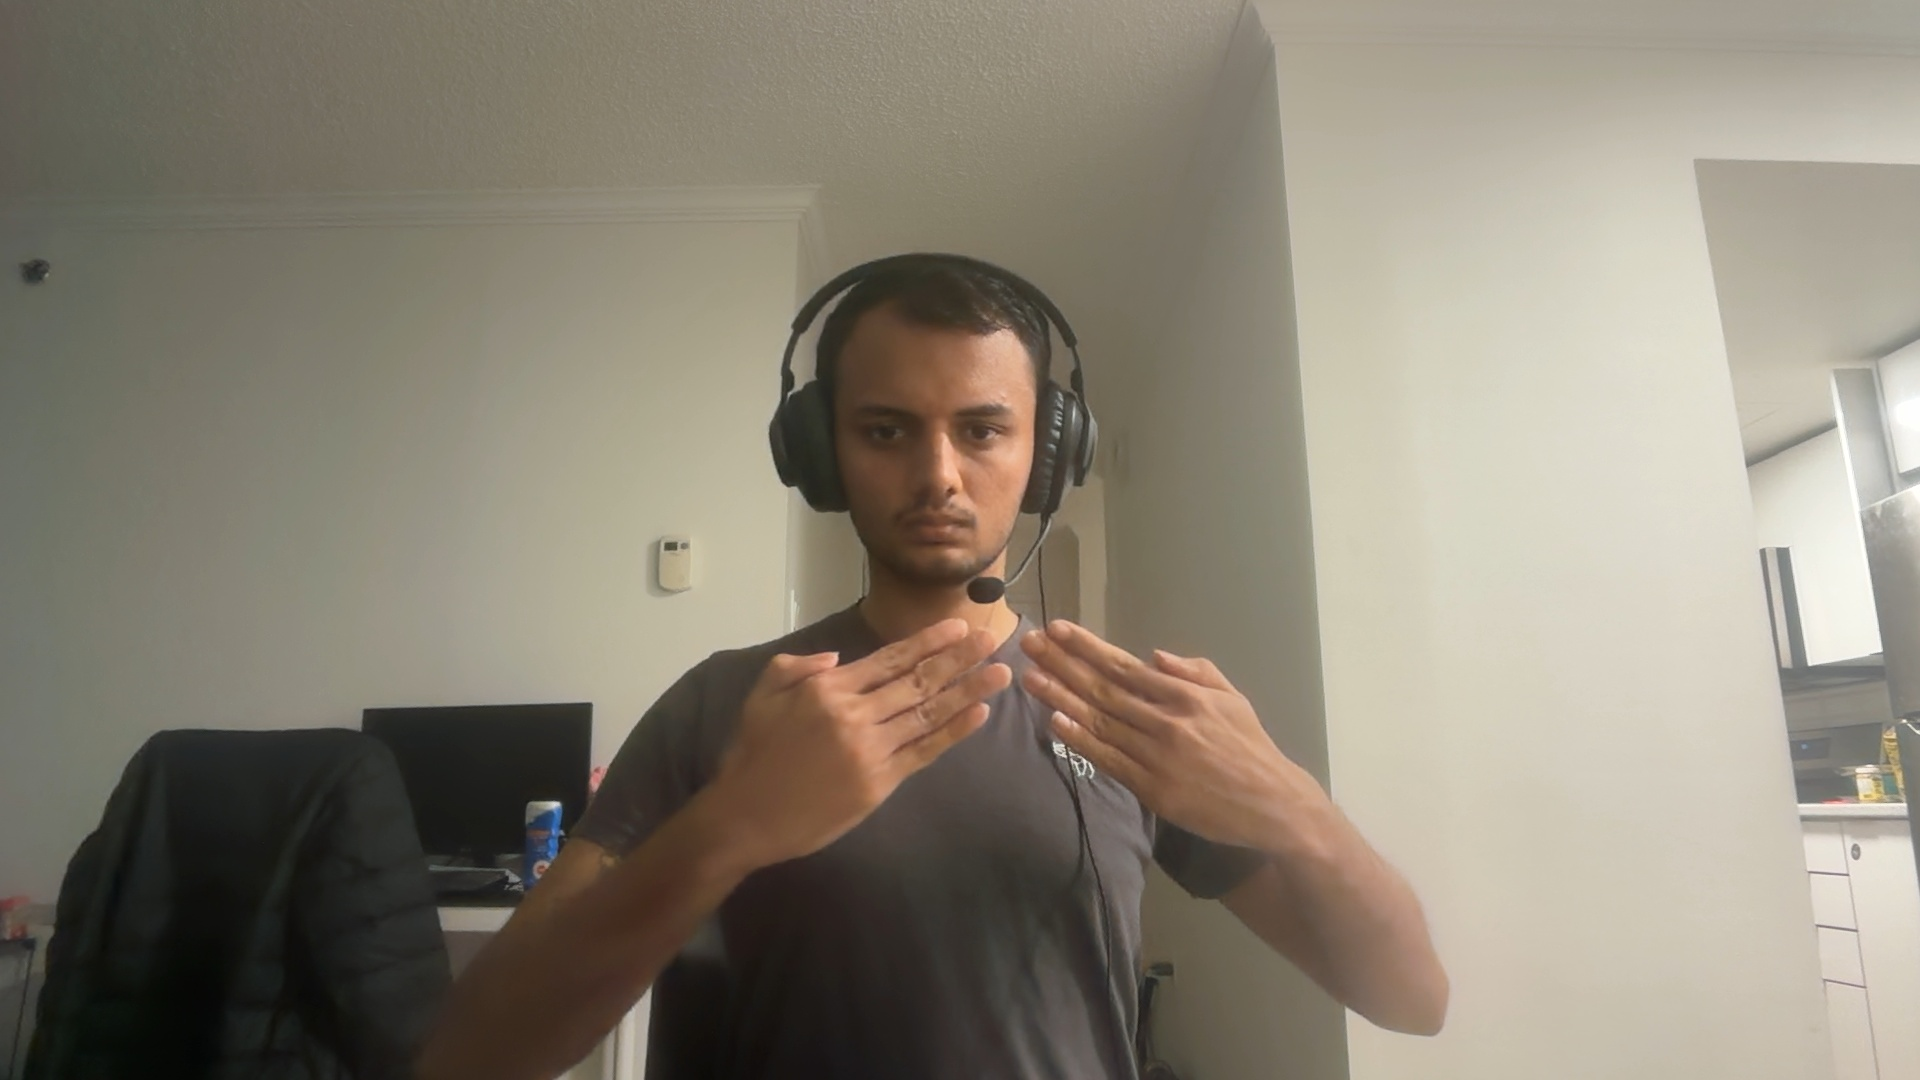thankyou: (723, 616, 1346, 865)
